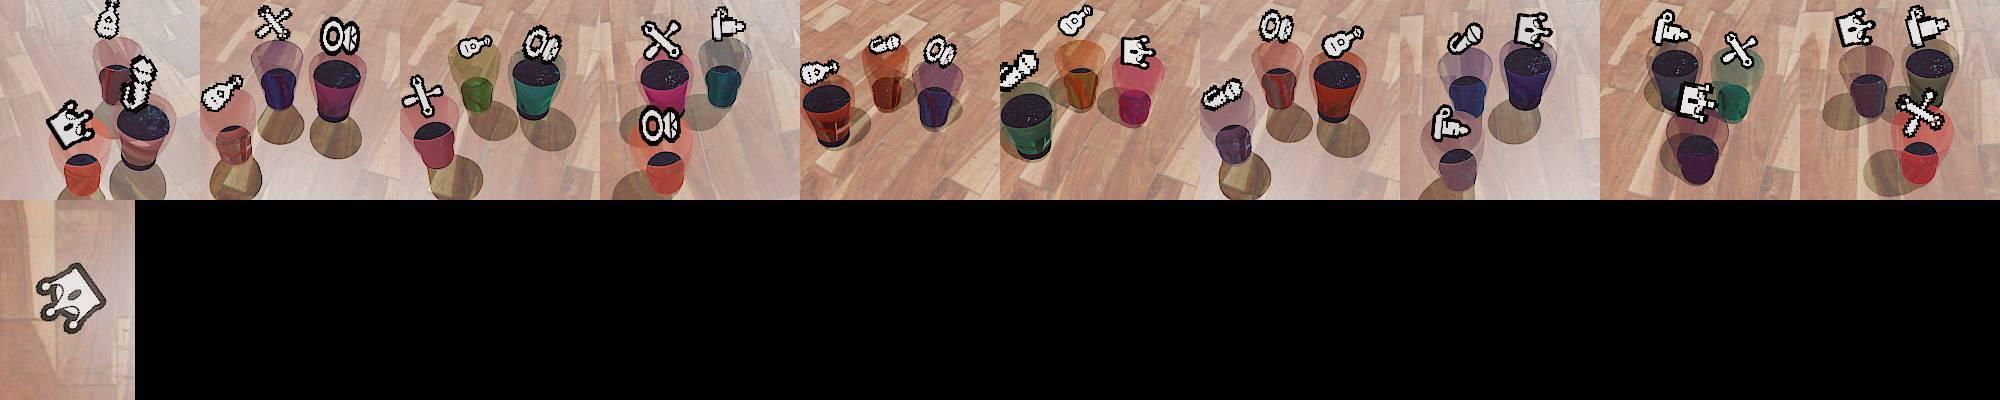icon: (34, 261, 108, 335), (45, 97, 98, 148), (1894, 89, 1948, 138), (121, 54, 158, 112), (1903, 5, 1950, 50), (401, 73, 445, 118), (520, 24, 564, 66), (996, 48, 1040, 90), (640, 19, 682, 62), (638, 104, 682, 145), (1676, 82, 1718, 124), (318, 17, 361, 57), (200, 74, 246, 112), (1834, 8, 1876, 48), (1431, 101, 1472, 141), (1320, 23, 1365, 60), (255, 4, 295, 42), (1202, 76, 1245, 111), (1719, 31, 1758, 69), (710, 5, 747, 43), (1514, 11, 1552, 48), (1652, 9, 1690, 46), (1258, 8, 1295, 45), (1056, 4, 1094, 38), (1446, 20, 1485, 55), (800, 57, 841, 87), (922, 34, 958, 68), (1120, 34, 1156, 68), (93, 0, 121, 41), (457, 34, 492, 60), (867, 32, 903, 55)
